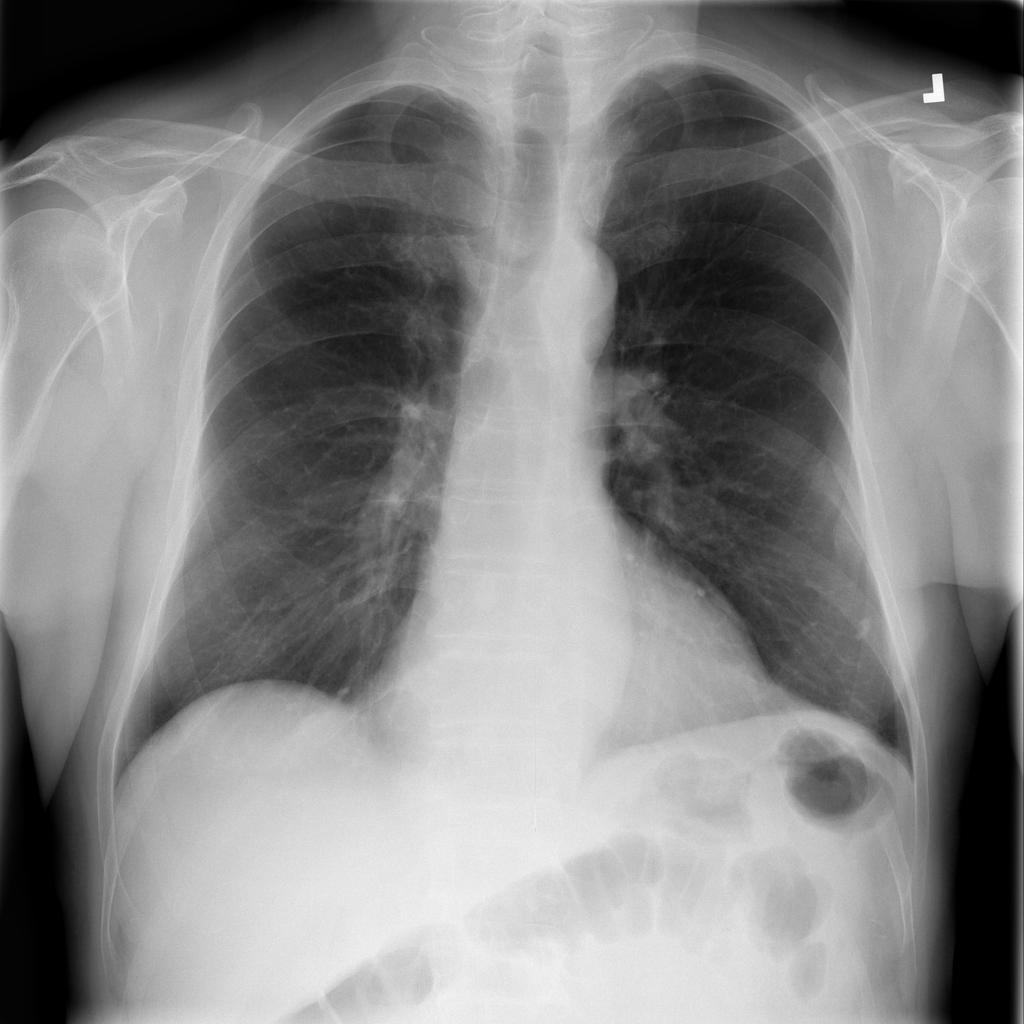nodule: (839, 600, 889, 650)
